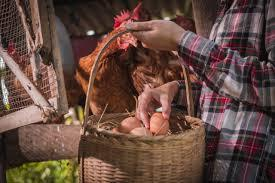egg: (150, 110, 167, 132), (122, 114, 141, 130), (134, 123, 152, 135)
